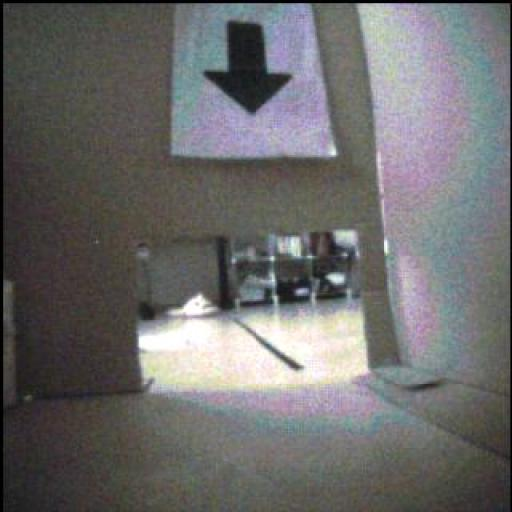arrow: (206, 22, 292, 115)
